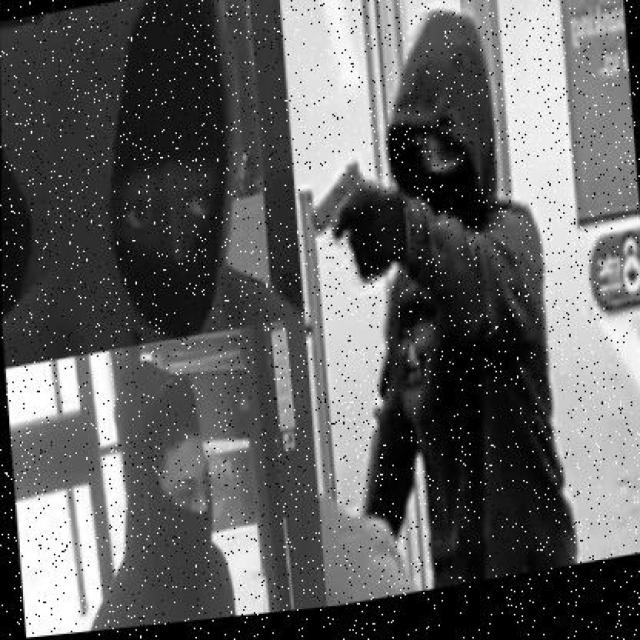weapon: (308, 157, 366, 238)
